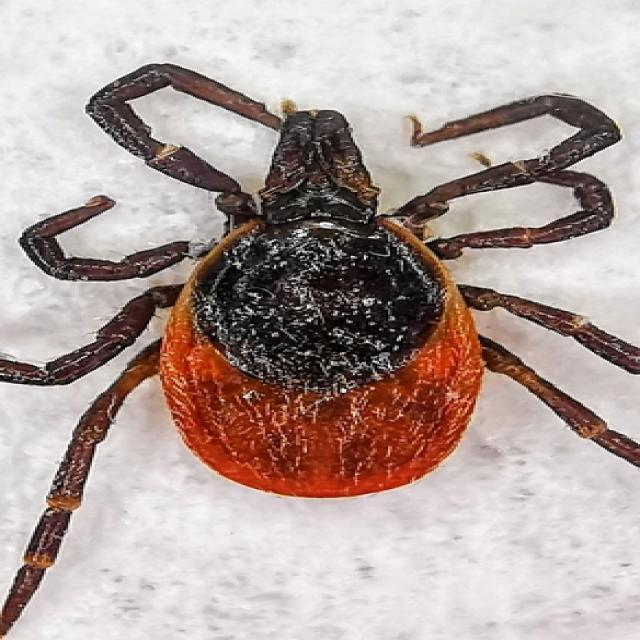Ixodes Ricinus-F: (0, 64, 640, 640)
